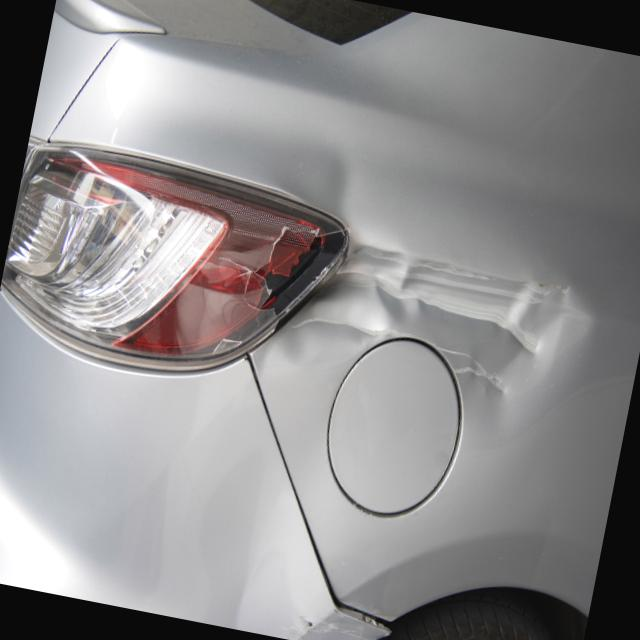Cabossage: (295, 204, 577, 421)
Phare abime: (174, 164, 362, 396)
Rayure: (311, 224, 564, 397), (288, 606, 384, 640)
